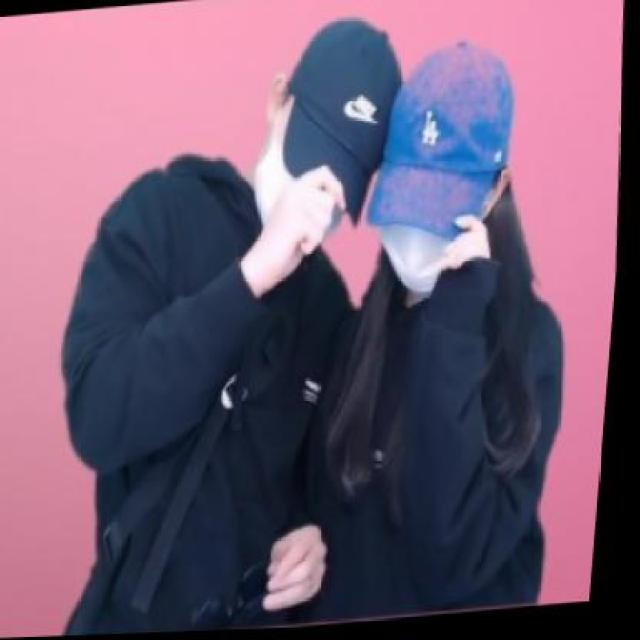hat: (355, 41, 530, 247), (274, 16, 418, 236)
